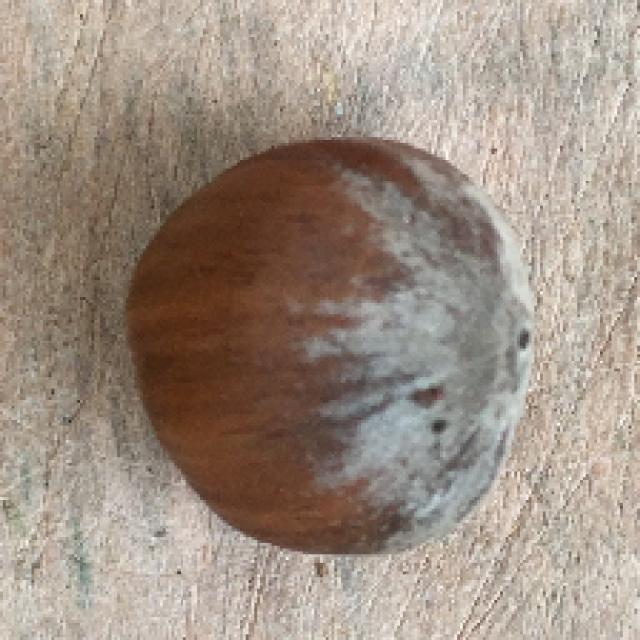damagedHazelnut: (118, 132, 540, 562)
